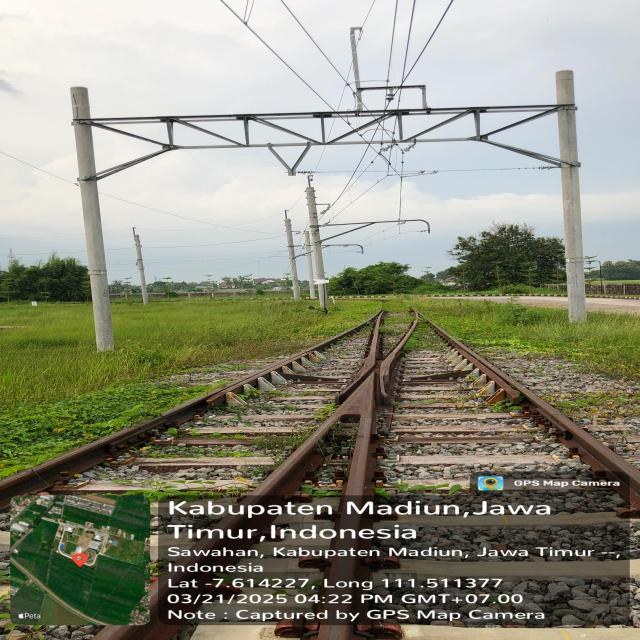rail-detection: (0, 321, 370, 509), (427, 320, 640, 511), (240, 308, 421, 531), (319, 589, 366, 640), (326, 536, 370, 588)
